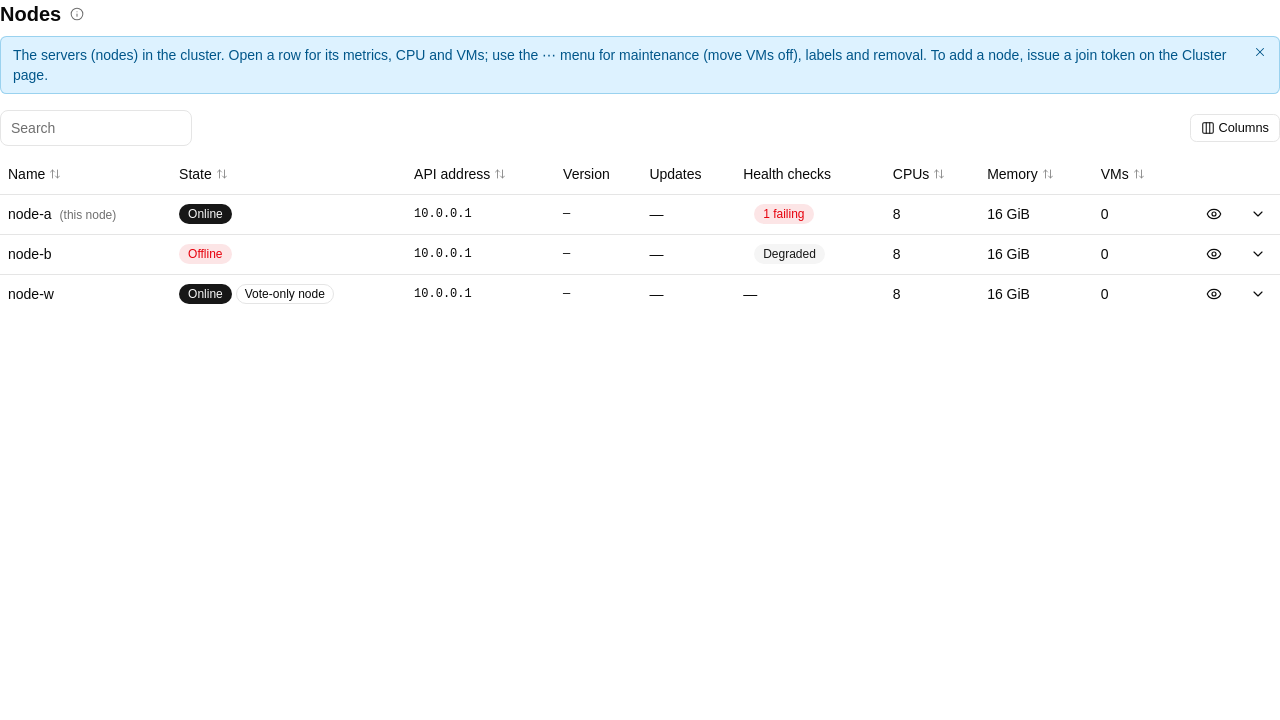
Test case: shows the health checks of each node and opens its interfaces
Expected: the link "node-a" is shown, left=8, top=206, right=52, bottom=222
Expected: the cell "Degraded" is shown, left=735, top=234, right=885, bottom=274
Note: 읽기만 하는 사람도 연다.
Click the button "1 failing": click(784, 214) left=743, top=200, right=825, bottom=228
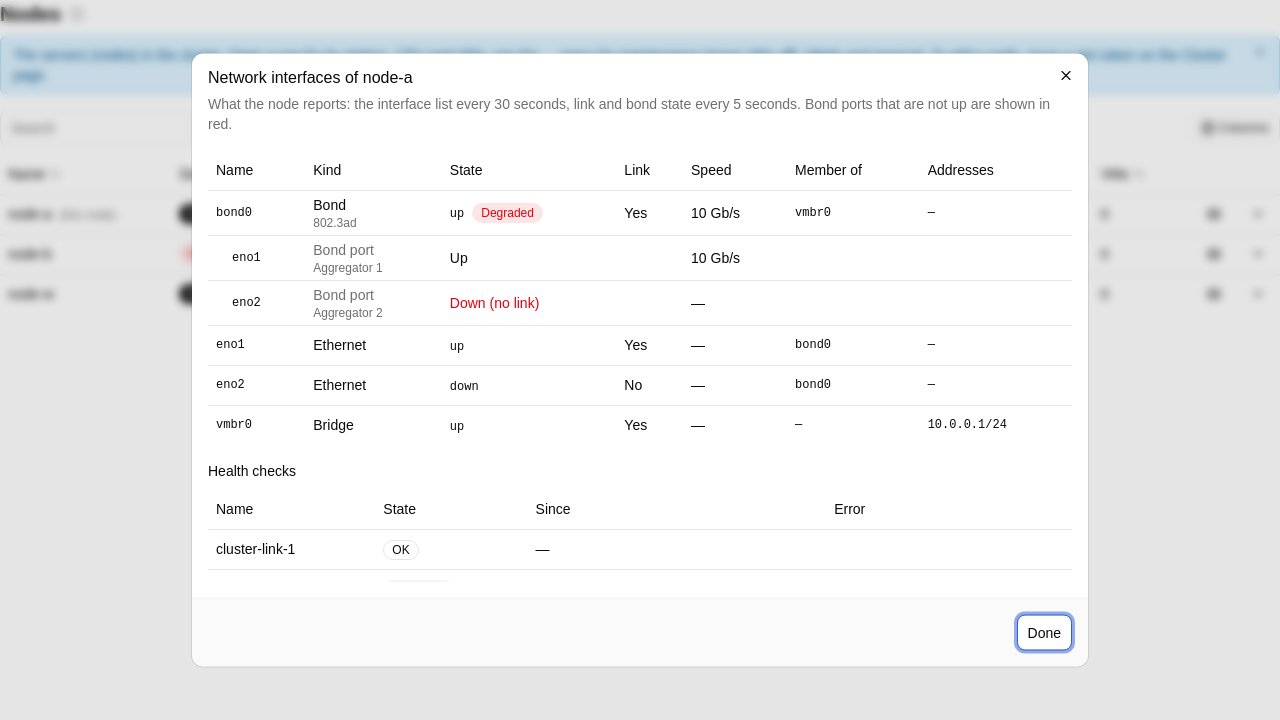
Expected: the row "bond0 Bond 802.3ad up Degraded Yes 10 Gb/s vmbr0 —" is shown, left=208, top=190, right=1072, bottom=234
Expected: the text "Degraded" in the row of "802.3ad" is shown, left=481, top=206, right=534, bottom=220
Expected: the row "vmbr0 Bridge up Yes — — 10.0.0.1/24" is shown, left=208, top=404, right=1072, bottom=444
